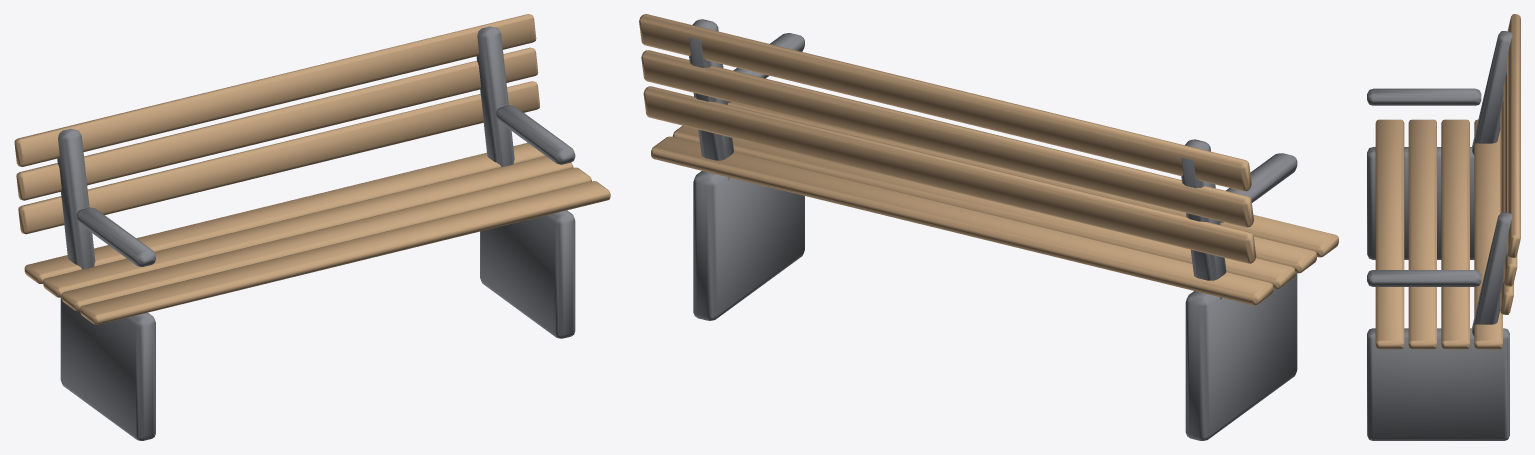
The model's file is bench.glb.
The picture shows the model from 3 angles, left to right: view 1: azimuth 30°, elevation 25°; view 2: azimuth 150°, elevation 25°; view 3: azimuth 270°, elevation 25°; orthographic projection. The views are drawn at different scales.
Visible parts, largest first — view 1: Body; view 2: Body; view 3: Body.
Boxes of the visible parts, left/top/right/bottom form: Body: left=14, top=14, right=610, bottom=440; Body: left=639, top=14, right=1338, bottom=440; Body: left=1367, top=14, right=1520, bottom=440.
Bounding box in the file's own units: 1.85 × 0.8687 × 0.538.
